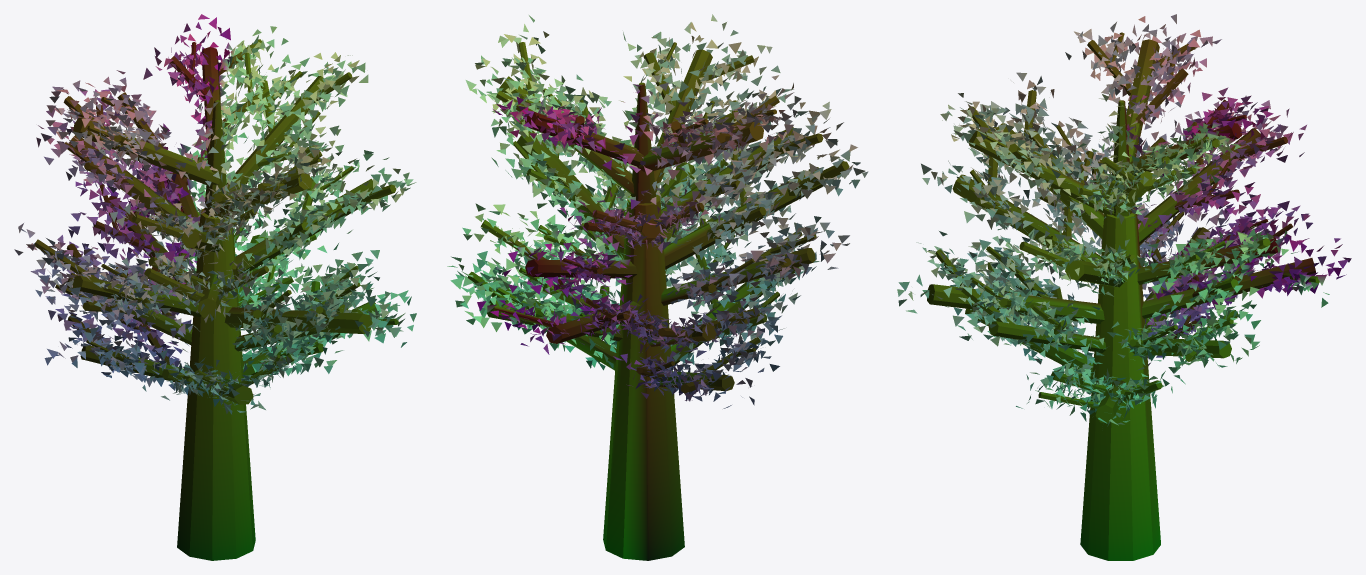
The model's file is ecological_broadleaf_old_01.glb.
3 renders of one model, left to right at view 1: azimuth 30°, elevation 25°; view 2: azimuth 150°, elevation 25°; view 3: azimuth 270°, elevation 25°, orthographic. The views are drawn at different scales.
Visible parts, largest first — view 1: ecological_broadleaf_old_01; view 2: ecological_broadleaf_old_01; view 3: ecological_broadleaf_old_01.
Part boxes in pixels (x1=…): ecological_broadleaf_old_01: x1=14, y1=14, x2=416, y2=560; ecological_broadleaf_old_01: x1=447, y1=14, x2=868, y2=560; ecological_broadleaf_old_01: x1=897, y1=14, x2=1351, y2=560.
Bounding box in the file's own units: 41 × 49.42 × 43.74.
